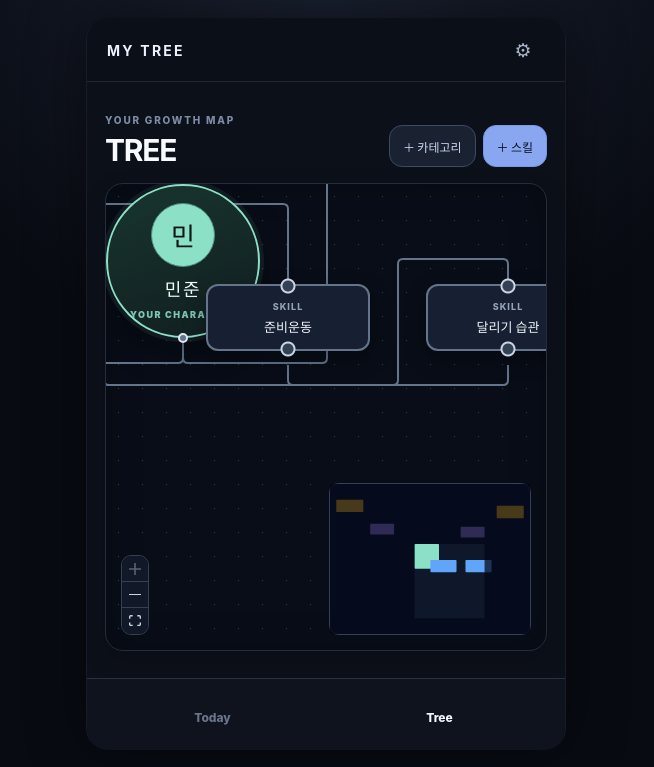
Test: goal-ended personal mind map app › keeps quests as simple daily check-offs
Click the button "Today".
click(212, 718)  # box [99, 685, 326, 750]
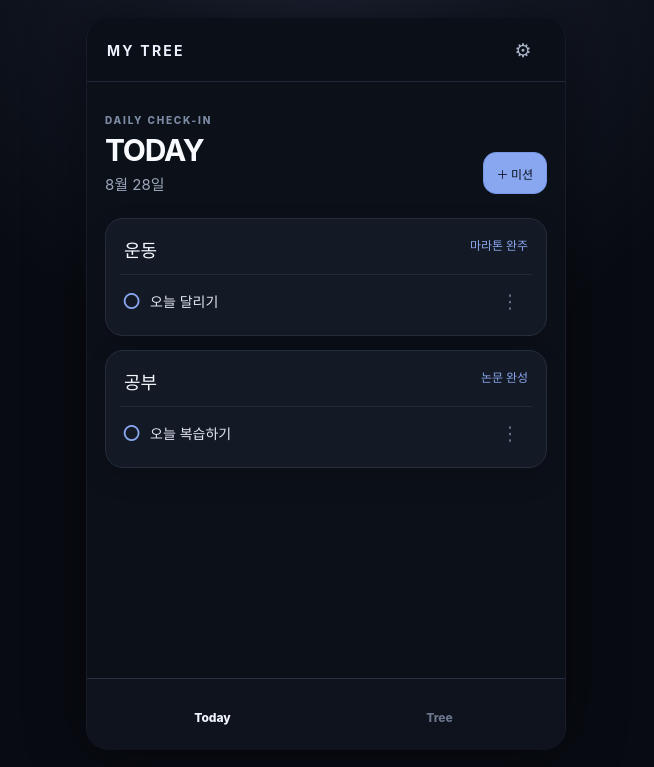
Click the button with aria-label "오늘 달리기 완료".
click(184, 302)  # box [120, 275, 488, 327]
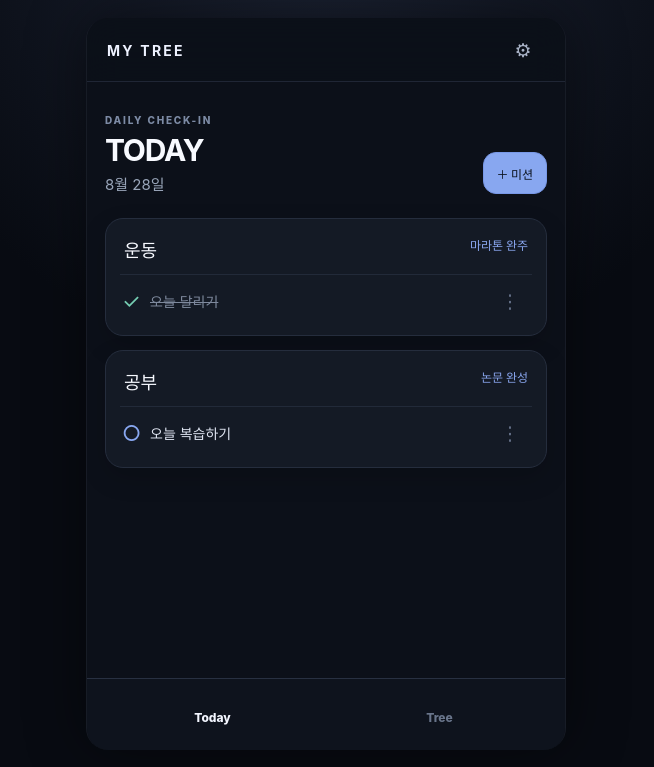
Check: the button with aria-label "오늘 달리기 완료됨" is disabled, box [120, 275, 488, 327]
